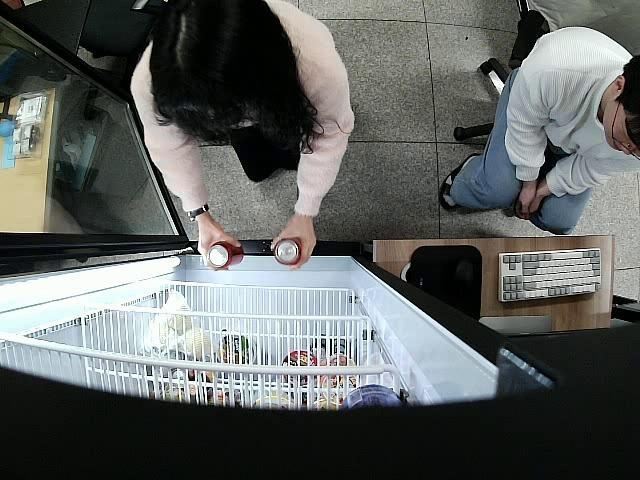11_cocaColaZero: (210, 240, 244, 269), (272, 236, 304, 266)
